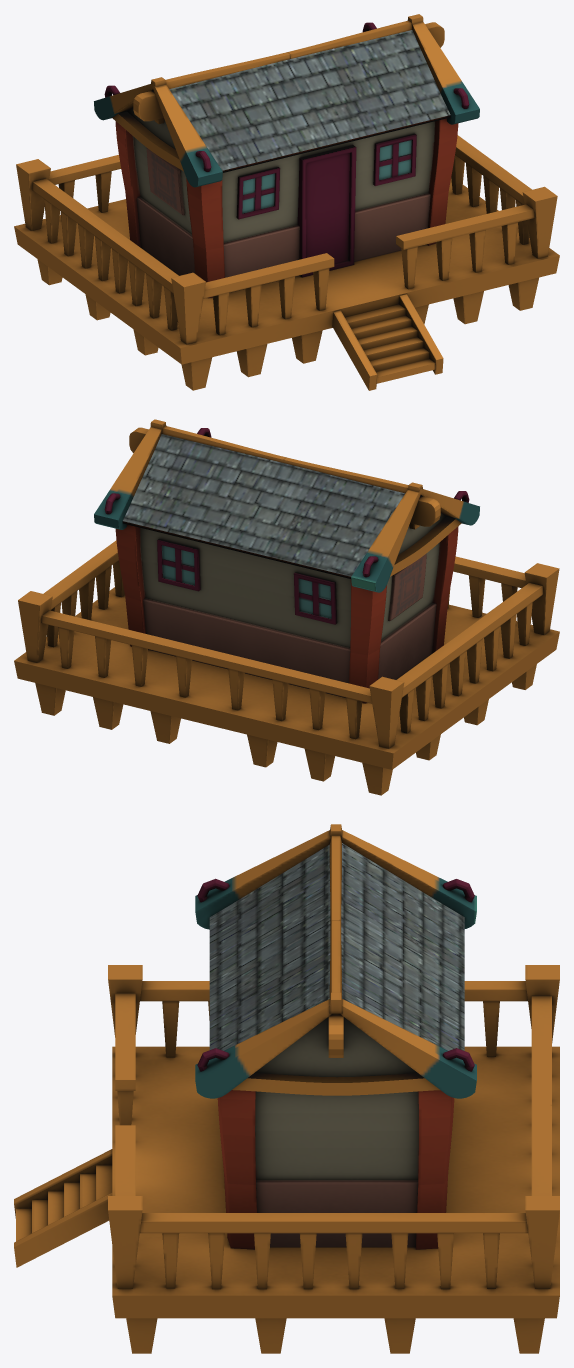
Rendered from House1.fbx.
3 views of the same model, one above another, from view 1: azimuth 30°, elevation 25°; view 2: azimuth 150°, elevation 25°; view 3: azimuth 270°, elevation 25° (orthographic). The views are drawn at different scales.
Visible parts, largest first — view 1: Casa1; view 2: Casa1; view 3: Casa1.
Part boxes in pixels (left/top/right/bottom): Casa1: left=14, top=14, right=559, bottom=390; Casa1: left=14, top=419, right=559, bottom=795; Casa1: left=14, top=824, right=559, bottom=1353.
Size of the model in its own units: 607 by 377 by 562.
1 material, 1 textured.
